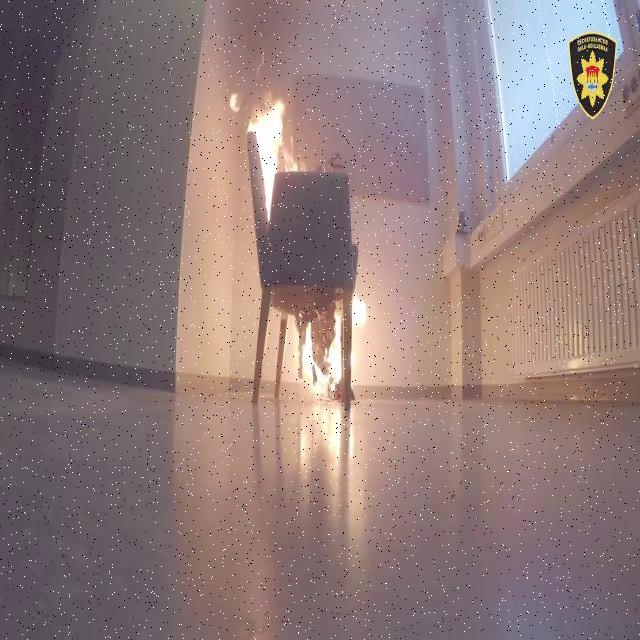fire: (226, 79, 308, 222), (289, 307, 371, 411)
